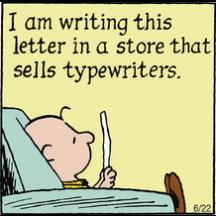charlie: (23, 105, 186, 214)
